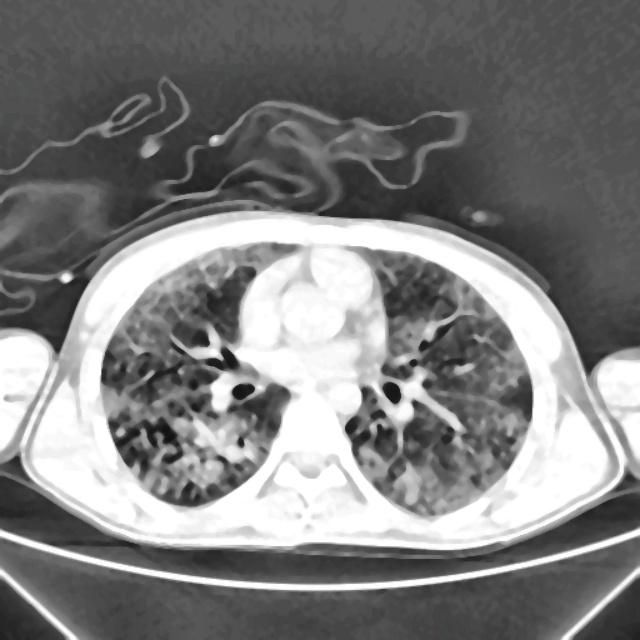covid: (7, 207, 631, 558)
